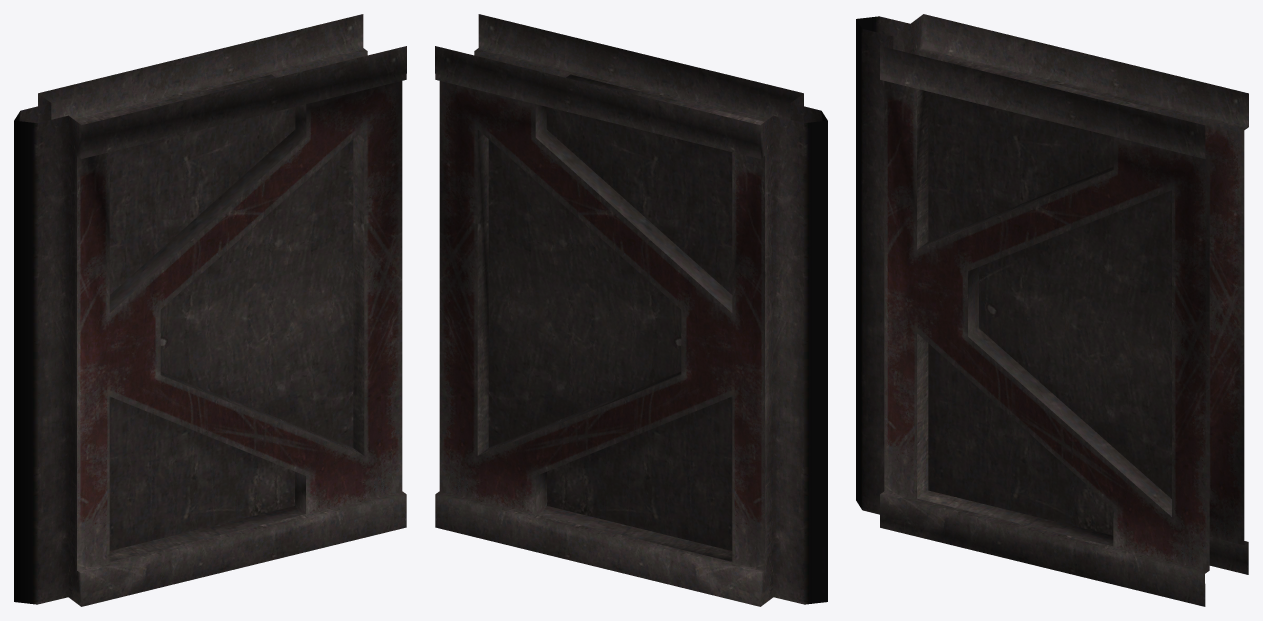
The model's file is ContDoorRight.fbx.
3 renders of one model, left to right at view 1: azimuth 30°, elevation 25°; view 2: azimuth 150°, elevation 25°; view 3: azimuth 330°, elevation 25°, orthographic.
Visible parts, largest first — view 1: Scene_Root; view 2: Scene_Root; view 3: Scene_Root.
Part boxes in pixels (left/top/right/bottom): Scene_Root: left=14, top=14, right=406, bottom=606; Scene_Root: left=435, top=14, right=827, bottom=606; Scene_Root: left=856, top=14, right=1248, bottom=606.
Size of the model in its own units: 4.63 by 5.74 by 0.9427.
Materials: 1 (1 with a texture image).
